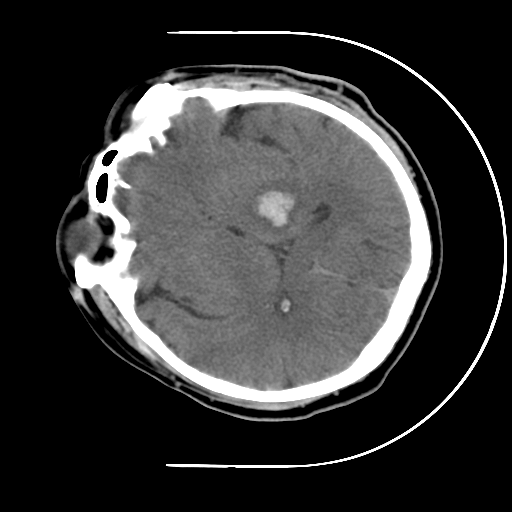a: (234, 173, 314, 240)
